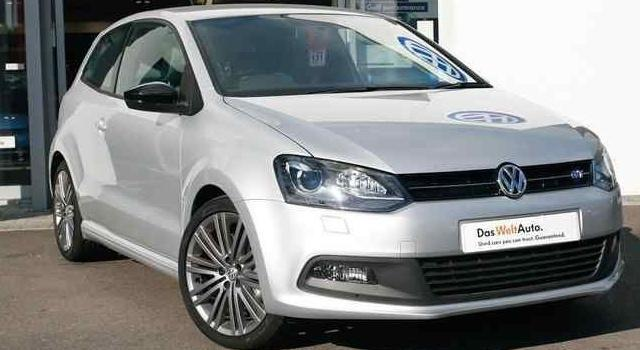Cars: (51, 6, 625, 349)
